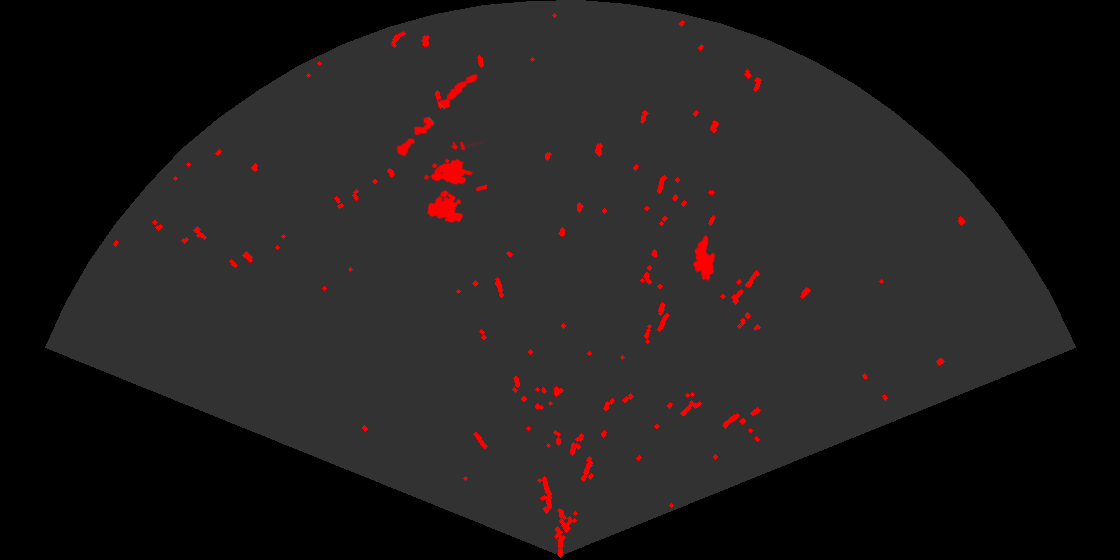AUV: (691, 233, 717, 283)
cage: (422, 142, 487, 224)
chain: (395, 72, 479, 158)
